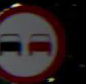No overtake: (0, 4, 64, 83)
